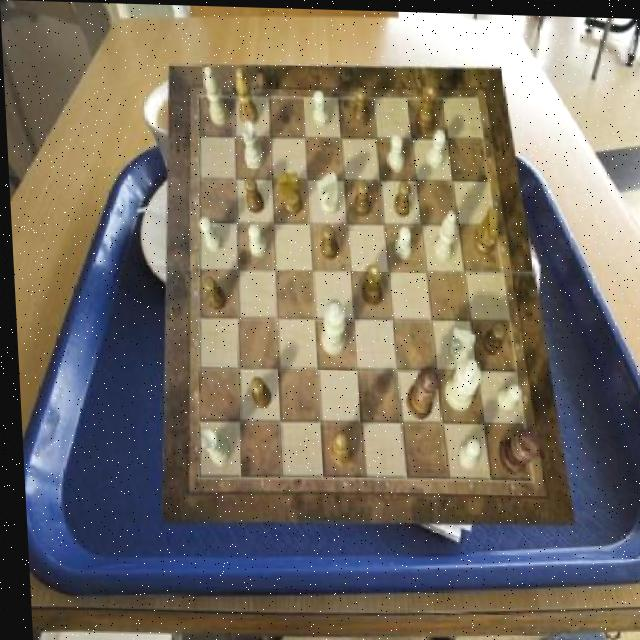bishop: (234, 67, 257, 126), (325, 430, 349, 465)
black-bishop: (493, 426, 536, 473)
black-king: (468, 205, 496, 254), (276, 171, 301, 215)
black-knight: (478, 320, 503, 353), (199, 275, 223, 309), (349, 85, 368, 125), (391, 178, 410, 215), (242, 175, 261, 211), (350, 177, 368, 214), (246, 376, 267, 407), (318, 222, 336, 257)
black-pawn: (400, 361, 437, 417)
black-queen: (413, 83, 437, 131), (356, 262, 378, 304)
black-rook: (202, 65, 227, 125), (428, 208, 455, 261)
white-bishop: (439, 354, 479, 409)
white-king: (444, 324, 473, 362), (315, 169, 338, 213)
white-knight: (197, 215, 221, 252), (423, 126, 445, 165), (451, 435, 476, 466), (492, 382, 519, 410), (385, 132, 404, 170), (310, 89, 328, 127), (391, 224, 410, 259), (245, 222, 264, 257)
white-pawn: (315, 296, 342, 354)
white-queen: (239, 119, 262, 167), (196, 429, 225, 465)
